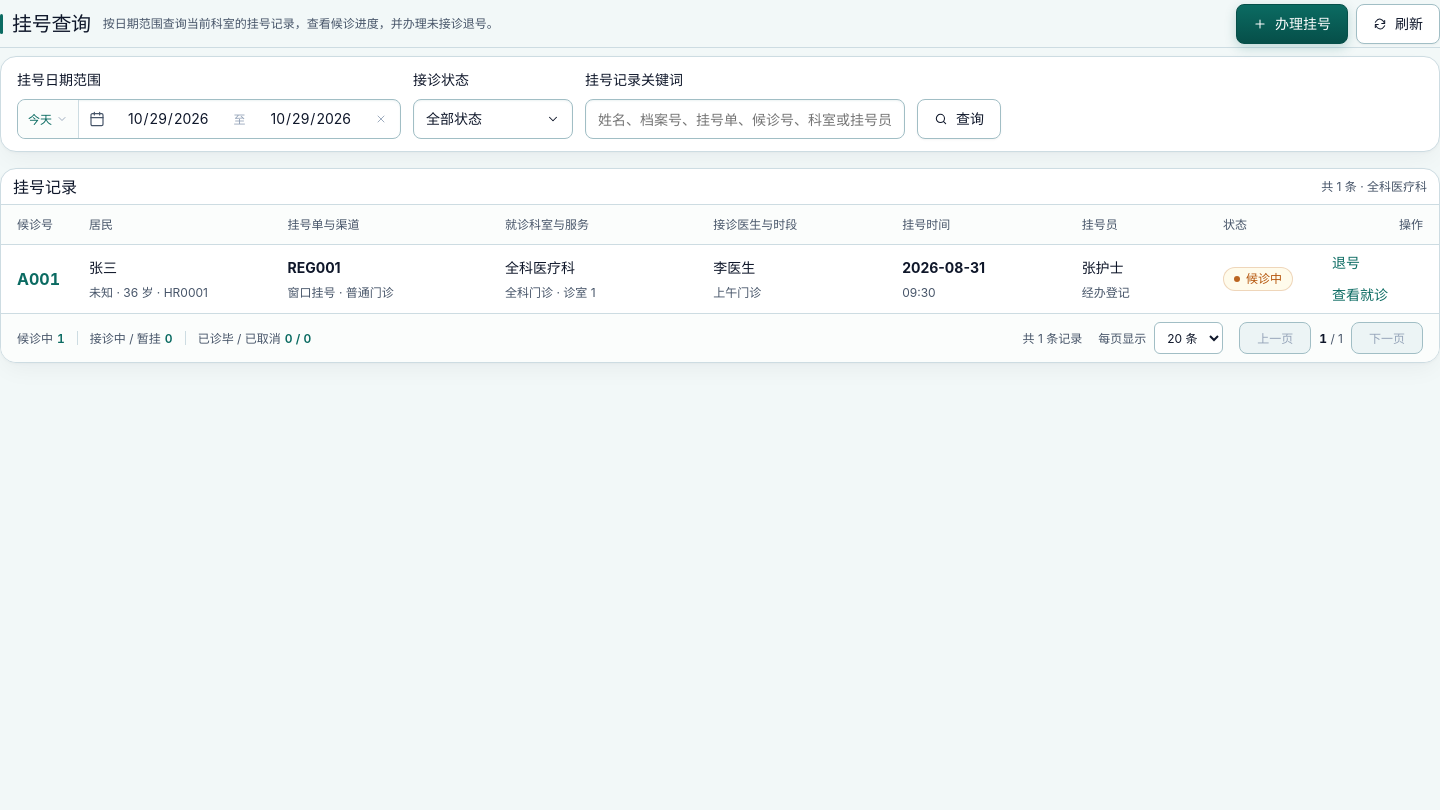
RegistrationQueryWorkspace › withdraws a waiting registration and refreshes the independent query
Click the button "退号" at [1346, 263], box [1319, 247, 1373, 279]
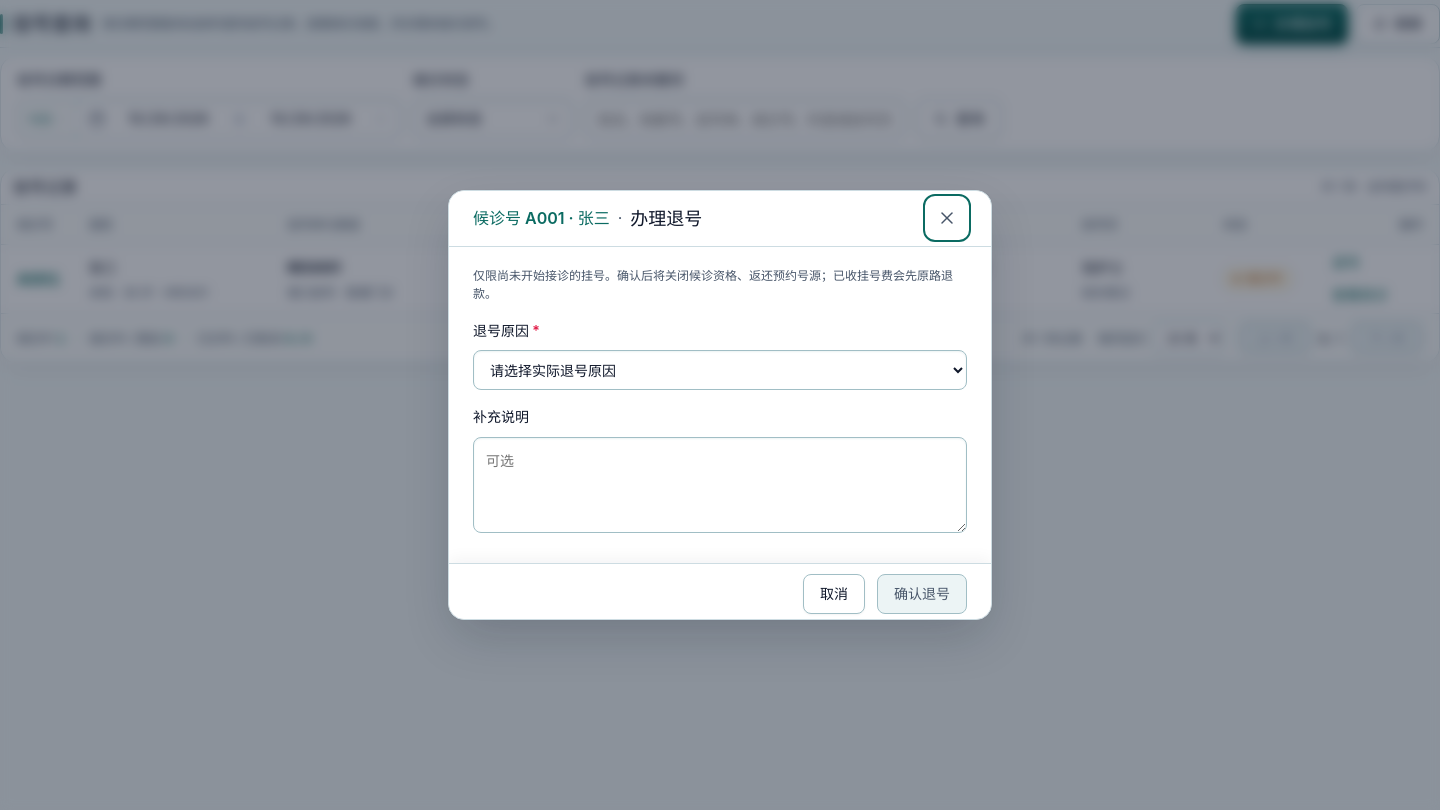
expect the heading "办理退号" is shown: met, box [630, 205, 702, 232]
expect the dropdown labelled "退号原因*" shows "请选择实际退号原因": met, box [473, 350, 967, 390]
expect the button "确认退号" is disabled: met, box [877, 574, 967, 614]
Type " 同一患者重复办理 " into the text box labelled "补充说明" at [720, 485], box [473, 437, 967, 533]
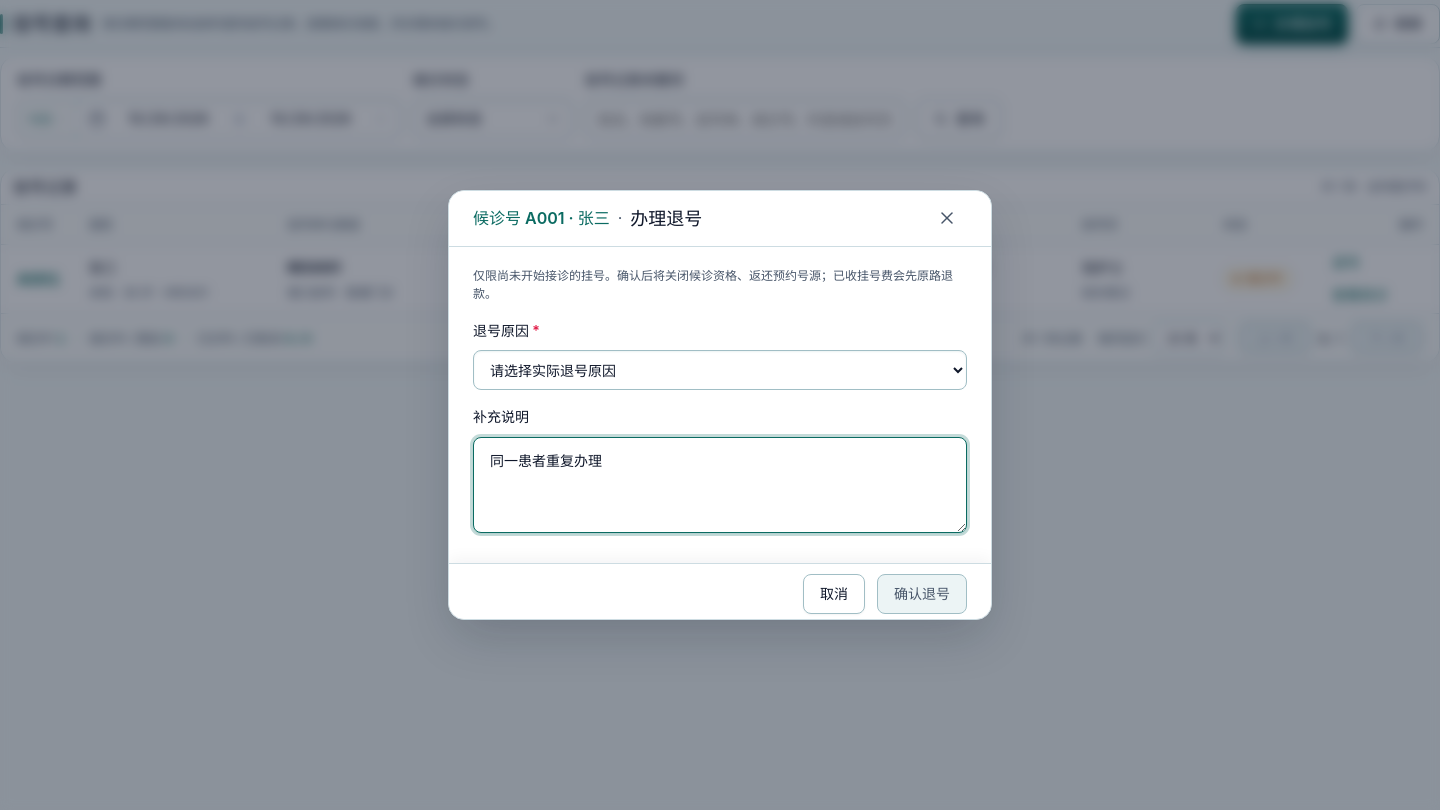
Click the button "确认退号" at [922, 594], box [877, 574, 967, 614]
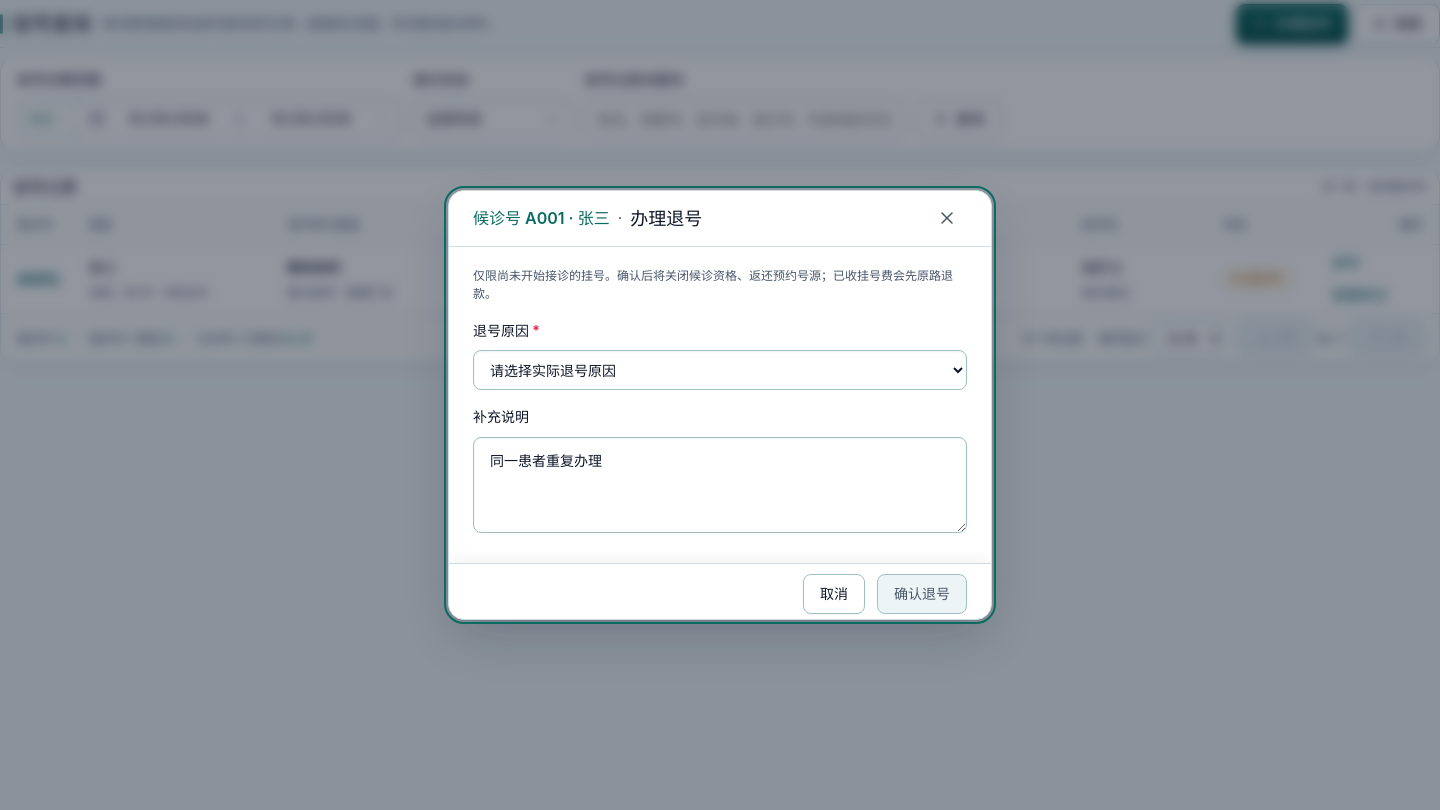
Select "重复挂号" in the dropdown labelled "退号原因*" at [720, 370], box [473, 350, 967, 390]
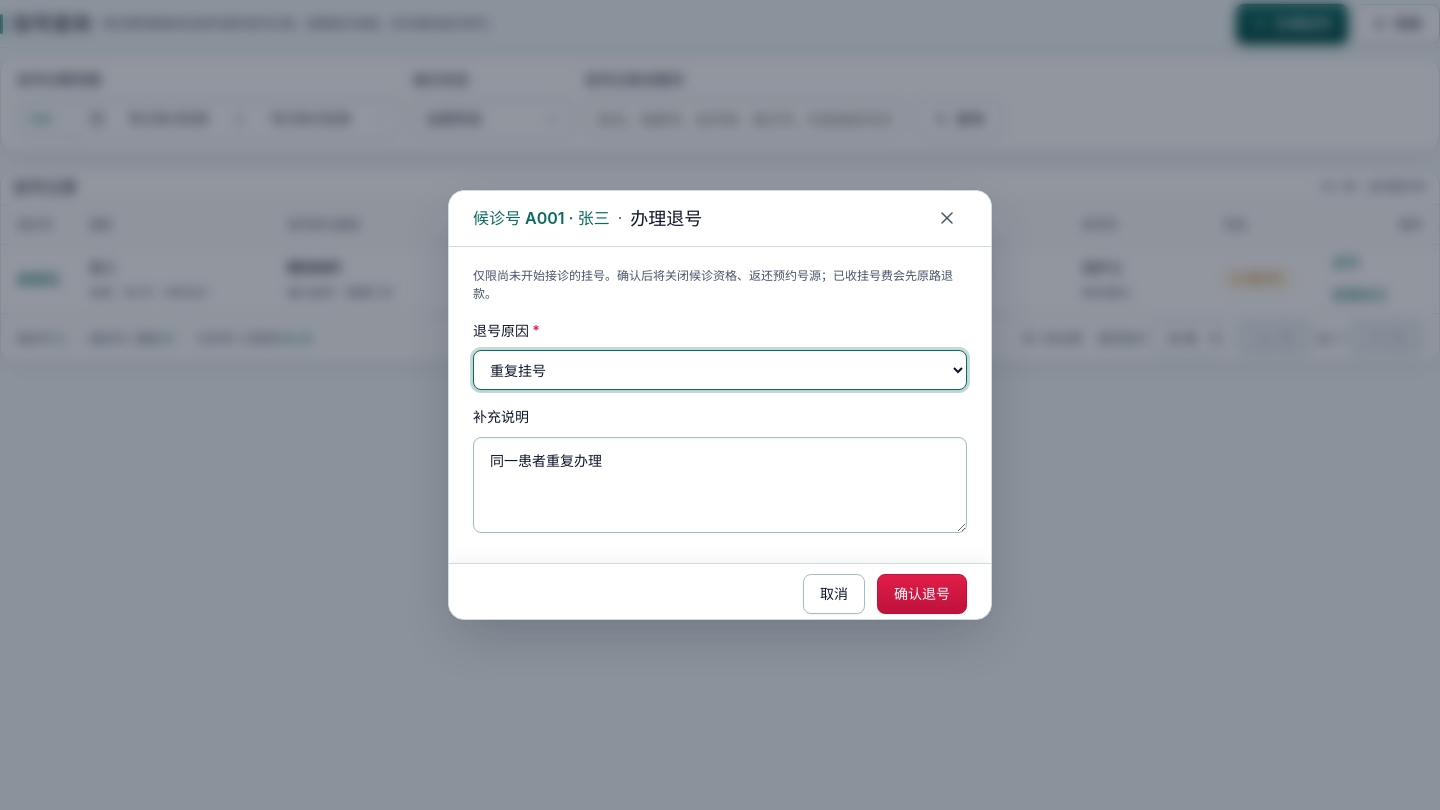
expect the button "确认退号" is enabled: met
Click the button "确认退号" at [922, 594], box [877, 574, 967, 614]
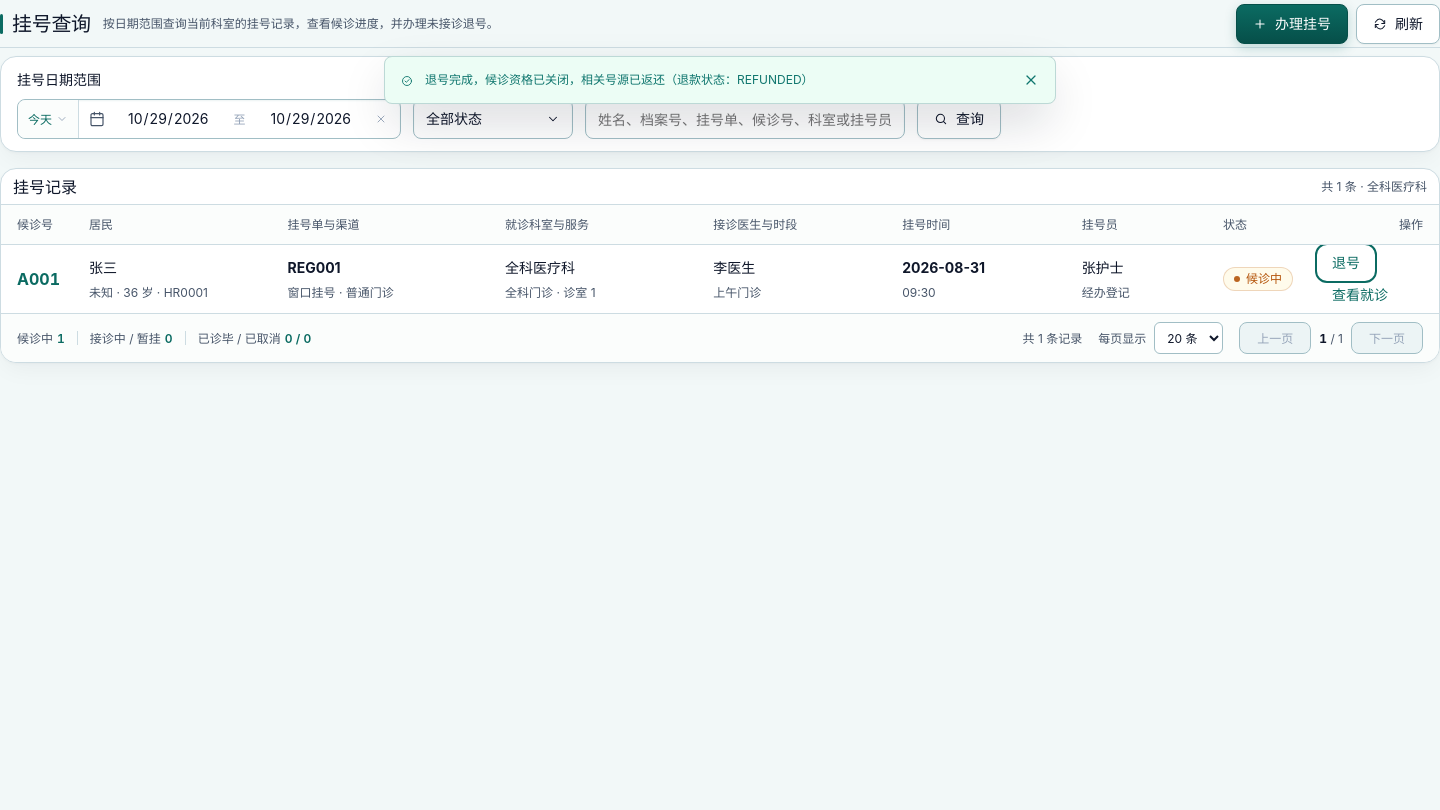
expect the text "退号完成，候诊资格已关闭，相关号源已返还（退款状态：REFUNDED）" is shown: met, box [425, 72, 814, 87]
